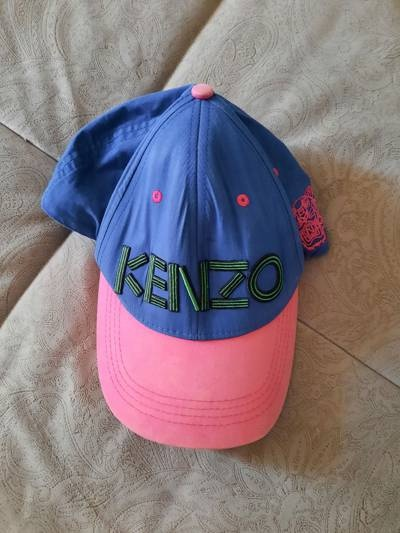Hat: (44, 59, 343, 470)
